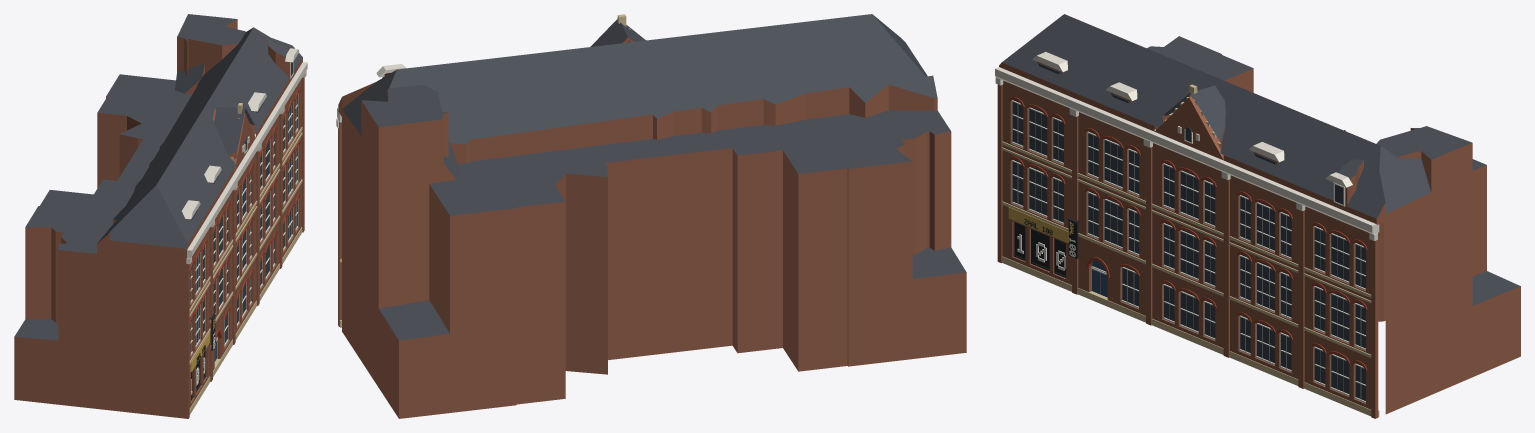
File: zaal-100.glb
3 views of the same model, side by side, from view 1: azimuth 30°, elevation 25°; view 2: azimuth 150°, elevation 25°; view 3: azimuth 270°, elevation 25° (orthographic). The views are drawn at different scales.
Visible parts, largest first — view 1: zaal-100; view 2: zaal-100; view 3: zaal-100.
Part boxes in pixels (<box>): zaal-100: <box>14,14,307,418</box>; zaal-100: <box>336,14,966,418</box>; zaal-100: <box>995,14,1520,418</box>.
Bounding box in the file's own units: 37.44 × 19.95 × 37.67.
